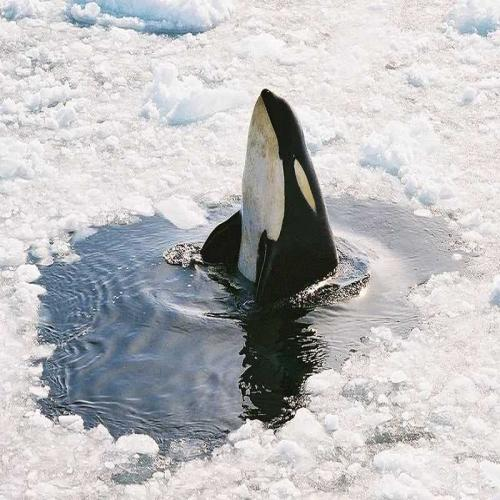killer_whale-endangered: (220, 72, 351, 311)
